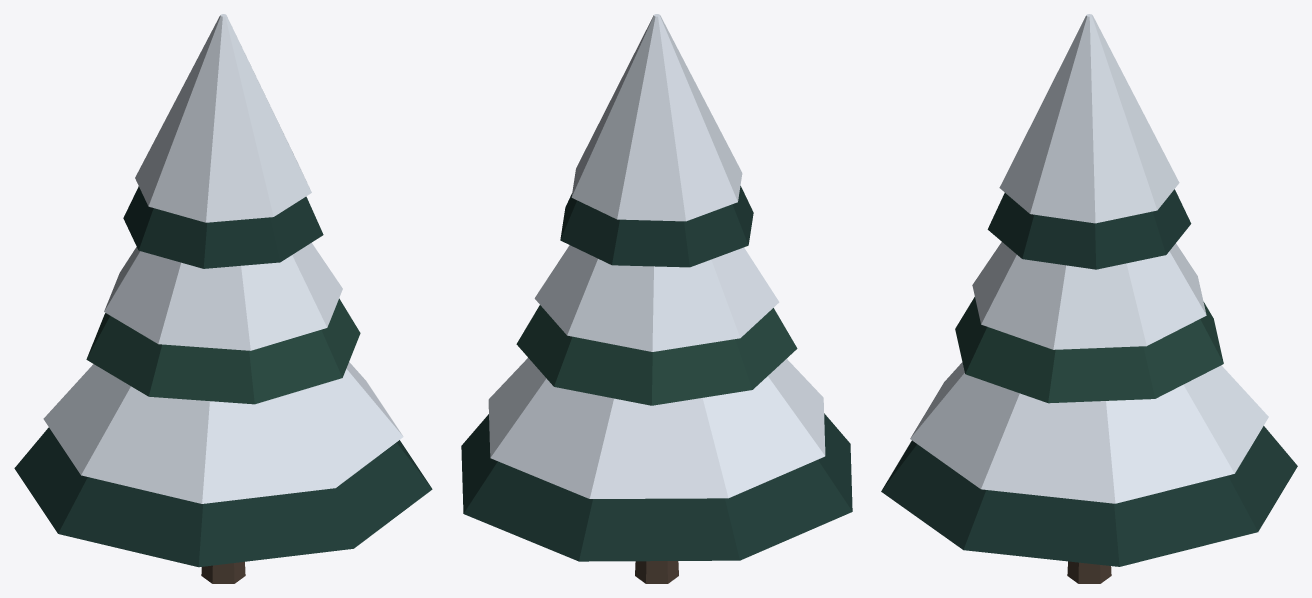
Rendered from pine_small.glb.
3 renders of one model, left to right at view 1: azimuth 30°, elevation 25°; view 2: azimuth 150°, elevation 25°; view 3: azimuth 270°, elevation 25°, orthographic.
Parts seen in each view (by area): view 1: pine_small; view 2: pine_small; view 3: pine_small.
Boxes of the visible parts, left/top/right/bottom form: pine_small: left=14, top=14, right=432, bottom=583; pine_small: left=461, top=14, right=852, bottom=583; pine_small: left=881, top=14, right=1297, bottom=583.
Size of the model in its own units: 3.74 by 5.55 by 3.74.
